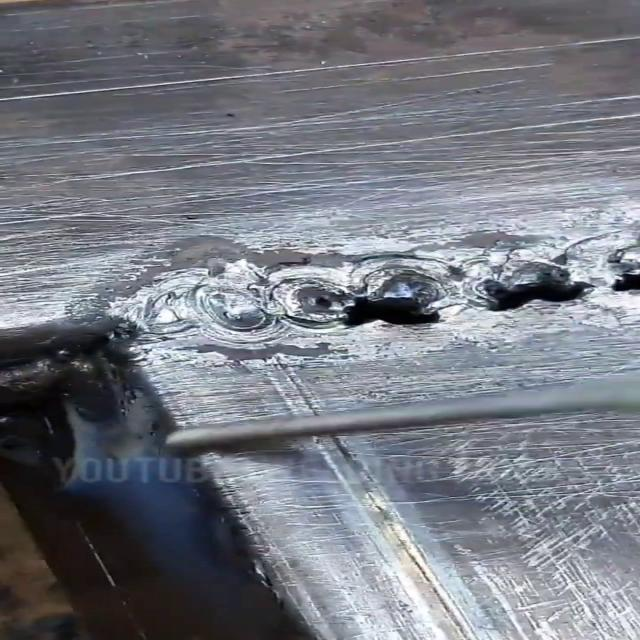Bad Weld: (130, 231, 640, 341)
